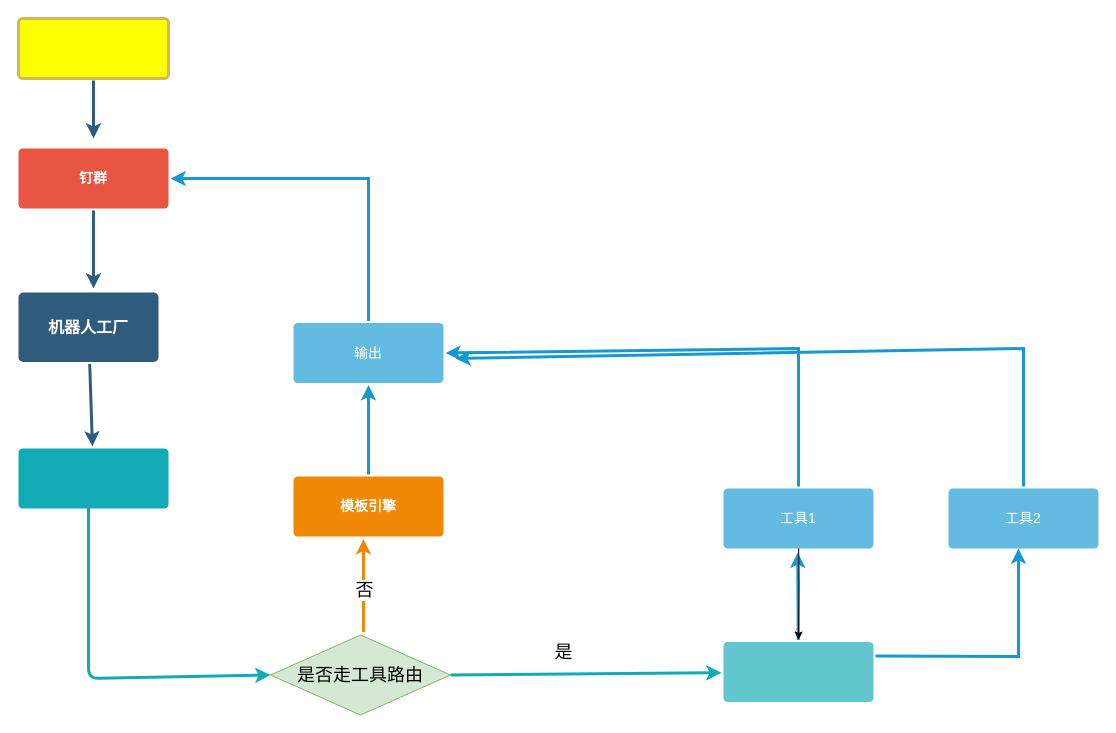
Some shapes in this 1116 by 733 pixel diagram are drawn without their labels. The centre of each missing label's shape, as x and y in pixels:
"工具核心引擎" goes at point (798, 672).
"机器人网关" goes at point (93, 478).
"用户输入" goes at point (93, 48).
